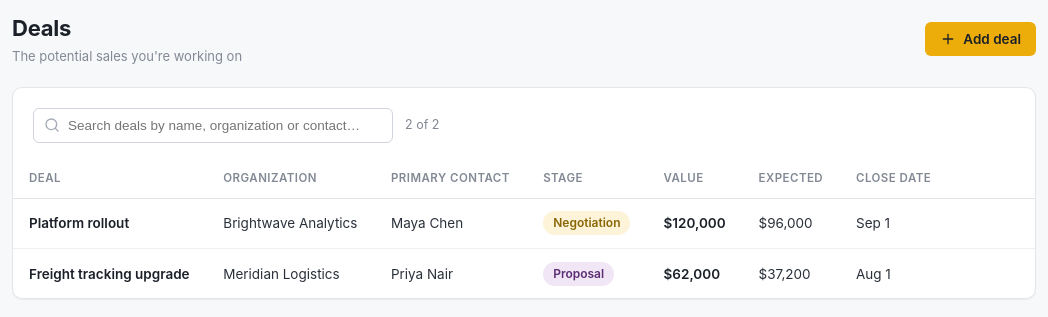
Test: Deals page › searches deals by name
This screenshot has width=1048, height=317.
Expected: the text "Platform rollout" is shown, 29,215 -> 129,231
Step 1. Type "freight" into the field labelled "Search deals" → {"x": 213, "y": 125}, box 33,108 -> 393,142
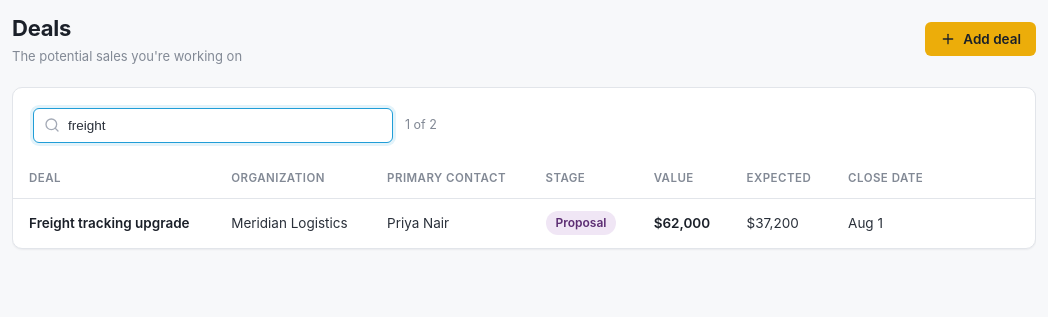
Expected: the text "Freight tracking upgrade" is shown, 29,215 -> 190,231
Result: the text "Platform rollout" is gone
